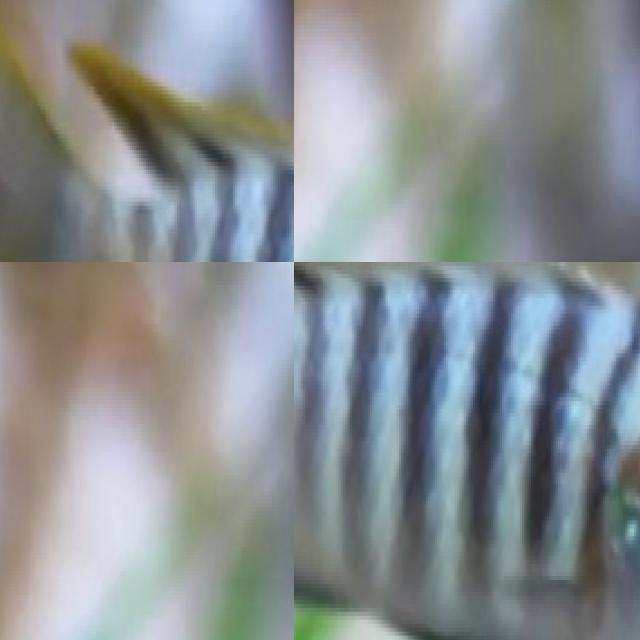fish: (0, 0, 294, 262), (294, 96, 640, 262)
